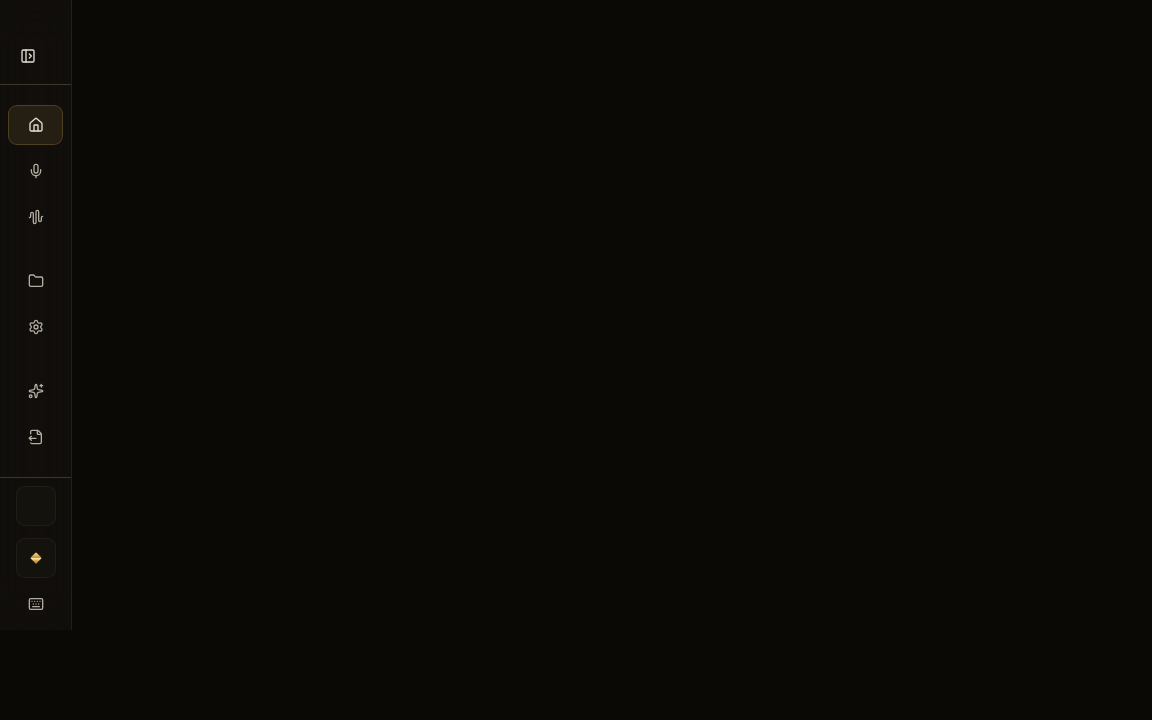
it: Sidebar collapsed layout › opens keyboard shortcut help from the collapsed rail
Click the button named "Keyboard shortcuts".
click(36, 604)  # box [18, 586, 54, 622]
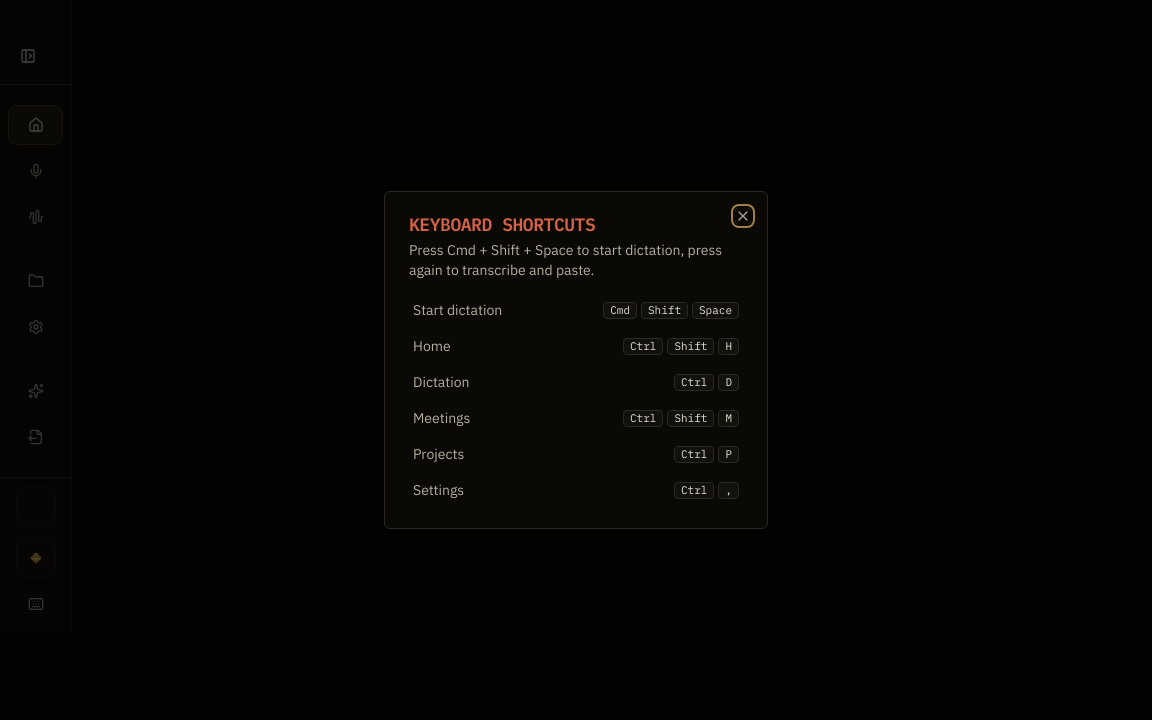
Now the dialog "Keyboard shortcuts" is shown, box [384, 191, 768, 529]
Now the text "Start dictation" is shown, box [413, 300, 502, 320]
Now the text "Home" is shown, box [413, 336, 451, 356]
